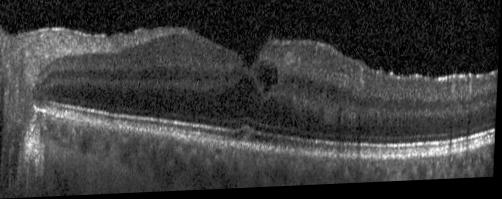intraretinal_cyst: (256, 62, 279, 95)
